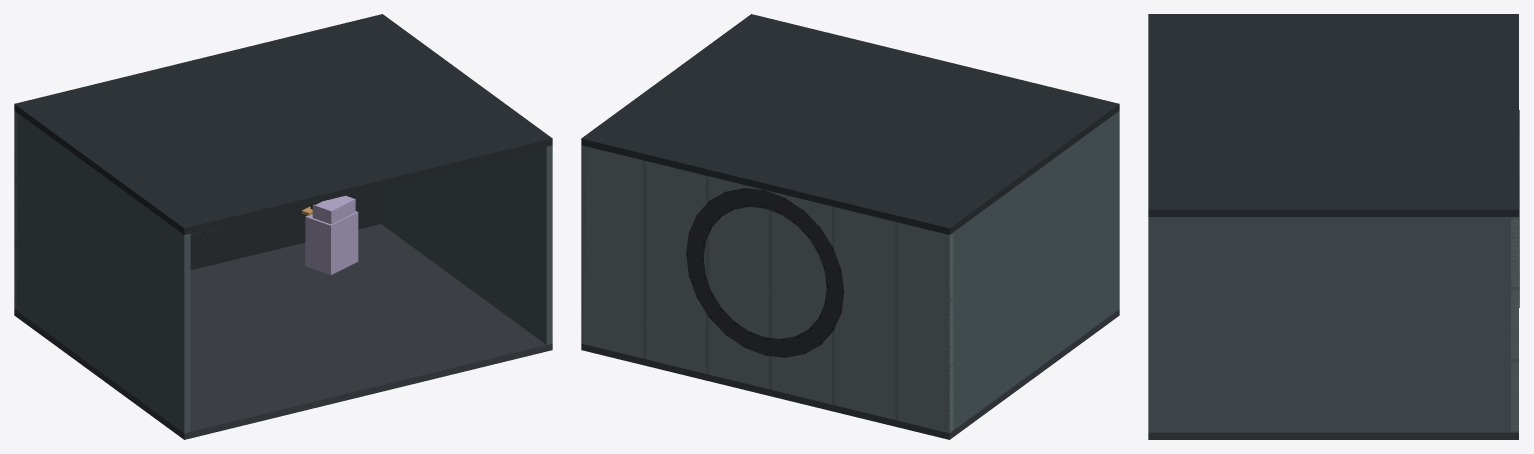
The model's file is monos-room.gltf.
3 views of the same model, side by side, from view 1: azimuth 30°, elevation 25°; view 2: azimuth 150°, elevation 25°; view 3: azimuth 270°, elevation 25° (orthographic). The views are drawn at different scales.
Parts seen in each view (by area): view 1: MonosRoomShell, MonosConsole; view 2: MonosRoomShell, MonosPortal; view 3: MonosRoomShell.
Boxes of the visible parts, x1=… form: MonosRoomShell: x1=14, y1=14, x2=552, y2=439; MonosConsole: x1=301, y1=195, x2=358, y2=275; MonosRoomShell: x1=581, y1=14, x2=1119, y2=439; MonosPortal: x1=686, y1=188, x2=844, y2=357; MonosRoomShell: x1=1148, y1=14, x2=1518, y2=439.
Bounding box in the file's own units: 7 × 3.84 × 5.61.
Materials: 1 (1 with a texture image).
